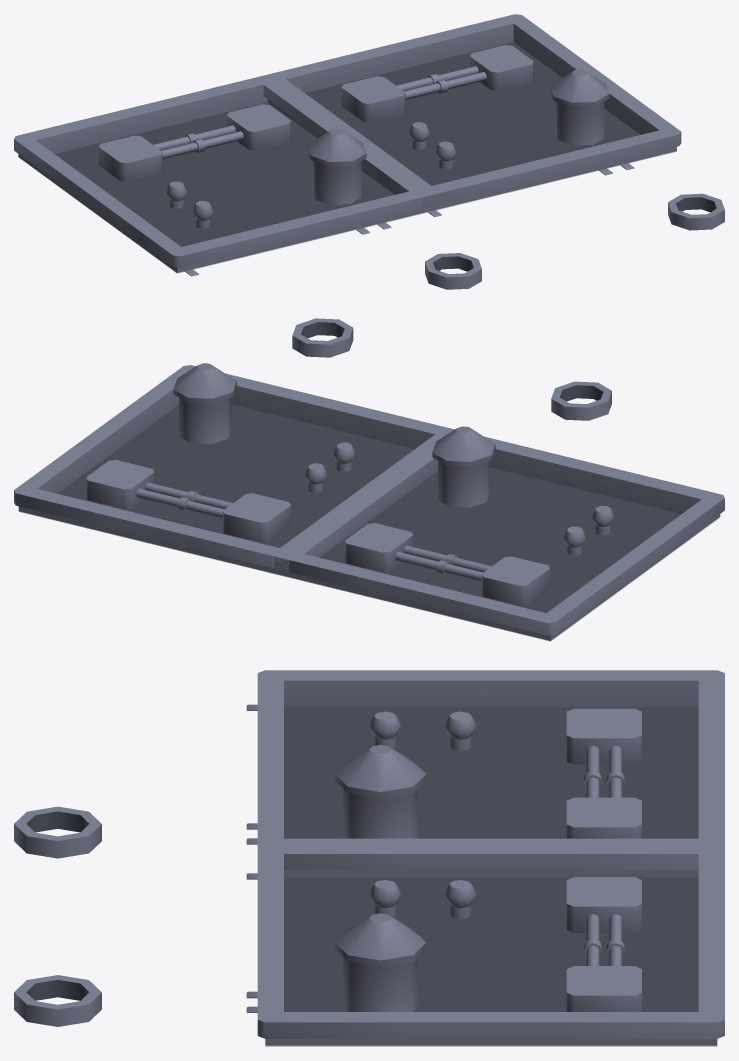
Rendered from industrial-b.glb.
The picture shows the model from 3 angles, top to bottom: view 1: azimuth 30°, elevation 25°; view 2: azimuth 150°, elevation 25°; view 3: azimuth 270°, elevation 25°; orthographic projection. The views are drawn at different scales.
Visible parts, largest first — view 1: building-b; view 2: building-b; view 3: building-b.
Boxes of the visible parts, x1,y1,x2,y2 form: building-b: [14, 14, 724, 289]; building-b: [14, 318, 724, 641]; building-b: [14, 670, 724, 1046].
Size of the model in its own units: 14.86 by 1.76 by 12.68.
Materials: 1 (1 with a texture image).
